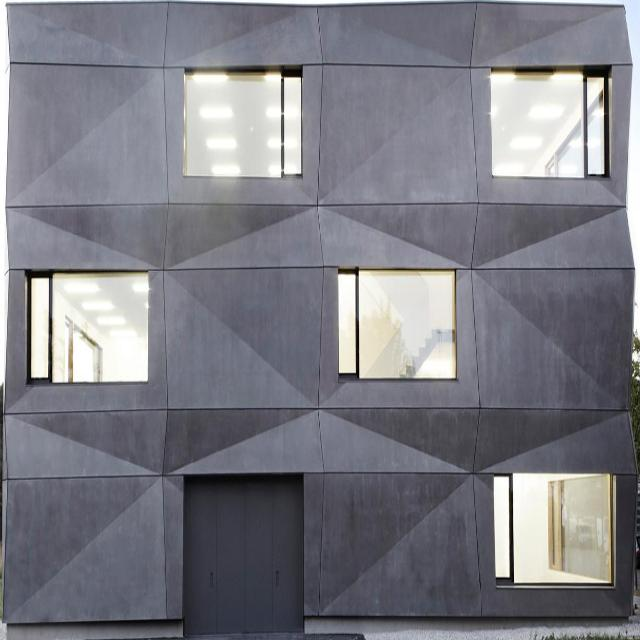door: (181, 471, 305, 639)
window: (185, 66, 303, 178), (335, 269, 453, 381), (492, 68, 610, 180), (27, 270, 145, 382), (496, 472, 614, 584)
